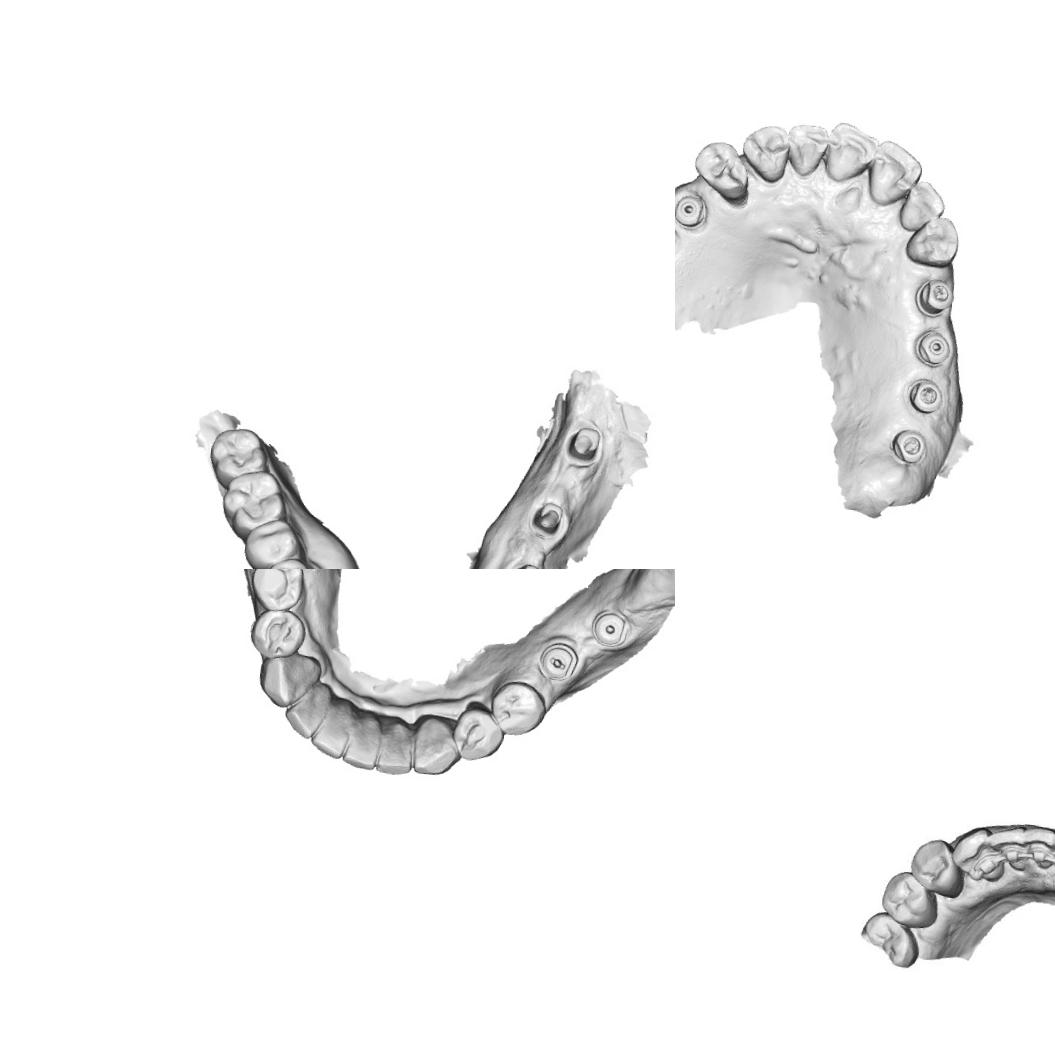abutment: (563, 416, 608, 468), (526, 496, 571, 542), (502, 559, 546, 569)
canine: (254, 648, 325, 712), (408, 712, 466, 779), (737, 118, 794, 185), (900, 212, 964, 270), (947, 824, 1002, 878)
implant: (586, 604, 633, 650), (912, 276, 957, 319), (912, 327, 954, 369), (905, 375, 946, 416), (888, 426, 929, 467), (675, 192, 708, 230)
implant_minus: (535, 638, 581, 684)
incisor: (863, 136, 926, 210), (821, 119, 880, 188), (279, 681, 332, 742), (307, 697, 355, 762), (896, 178, 948, 236), (784, 119, 830, 180), (374, 714, 417, 778), (342, 710, 382, 770), (984, 820, 1028, 868), (1019, 822, 1055, 871)
molar: (218, 467, 291, 544), (206, 424, 270, 492)
premolar: (688, 135, 754, 202), (484, 677, 550, 740), (246, 605, 310, 665), (240, 515, 308, 569), (449, 702, 507, 764), (880, 873, 934, 926), (247, 569, 308, 615), (912, 843, 962, 892), (260, 555, 322, 569)
